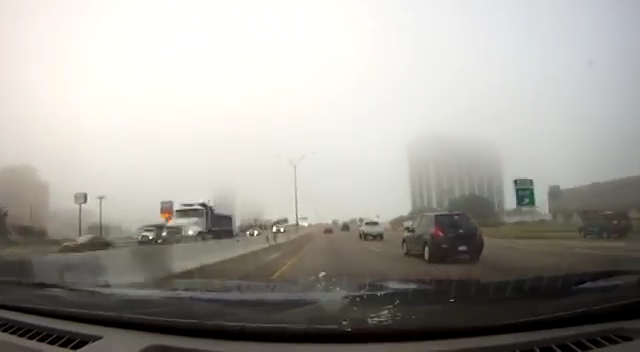bus: (168, 201, 234, 242), (137, 224, 183, 246)
car: (402, 212, 484, 262), (577, 211, 632, 240), (60, 234, 116, 256), (358, 220, 386, 241), (340, 223, 351, 232), (323, 227, 334, 234)
